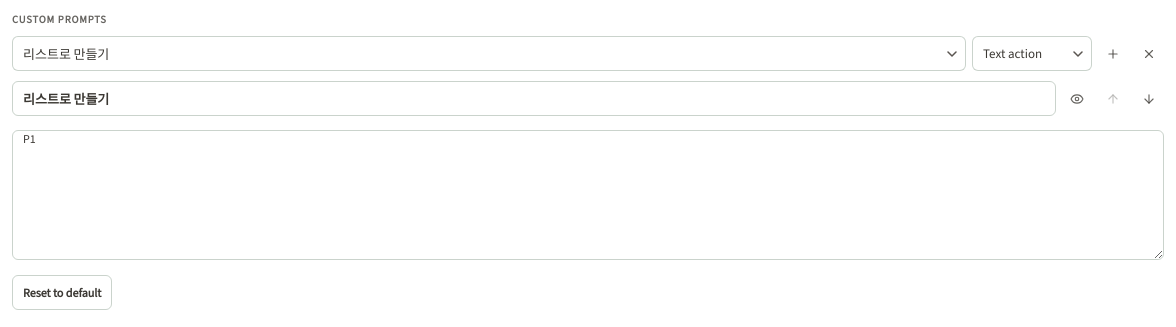
Test: AiActionEditor — single-column preset editor (프리셋 관리 모달의 AI 액션 탭) › picking another preset swaps the editor
The image size is (1176, 327).
Step 1. Click the button with test id "ai-action-select" → (66, 54), box [12,36,966,71]
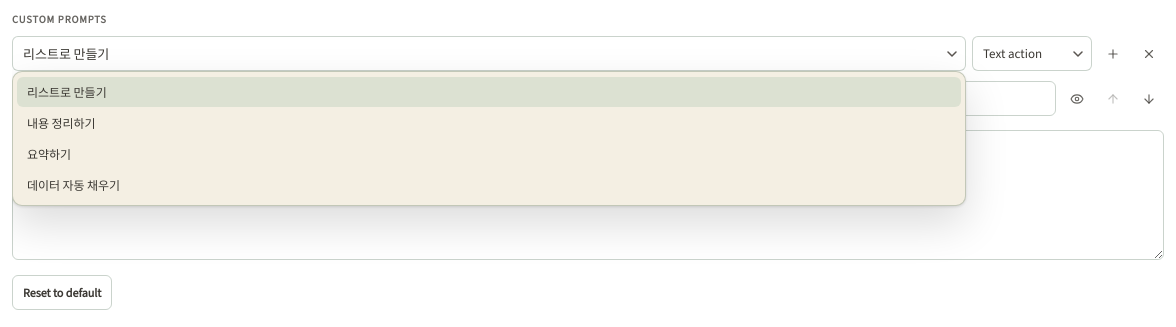
Step 2. Click the option "요약하기" → (49, 155), box [27,147,71,163]
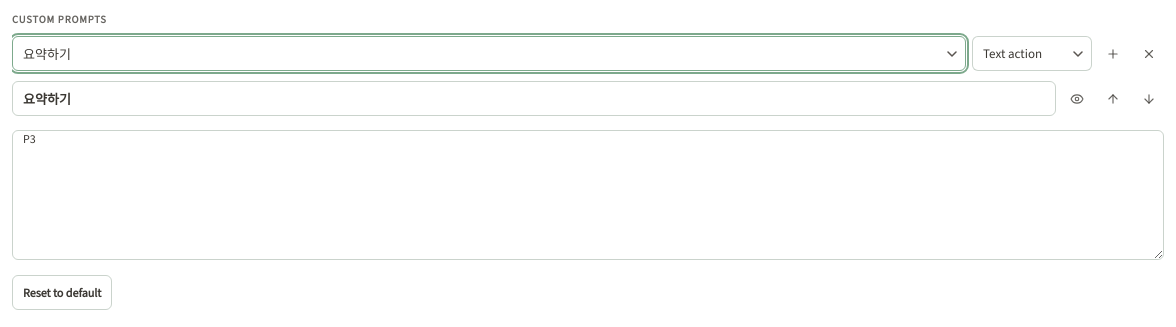
expect the button with test id "ai-action-select" reads "요약하기": met, box [12,36,966,71]
expect the field named "Prompt name" holds "요약하기": met, box [12,81,1056,116]
expect the text box named "Prompt" holds "P3": met, box [12,130,1164,260]
